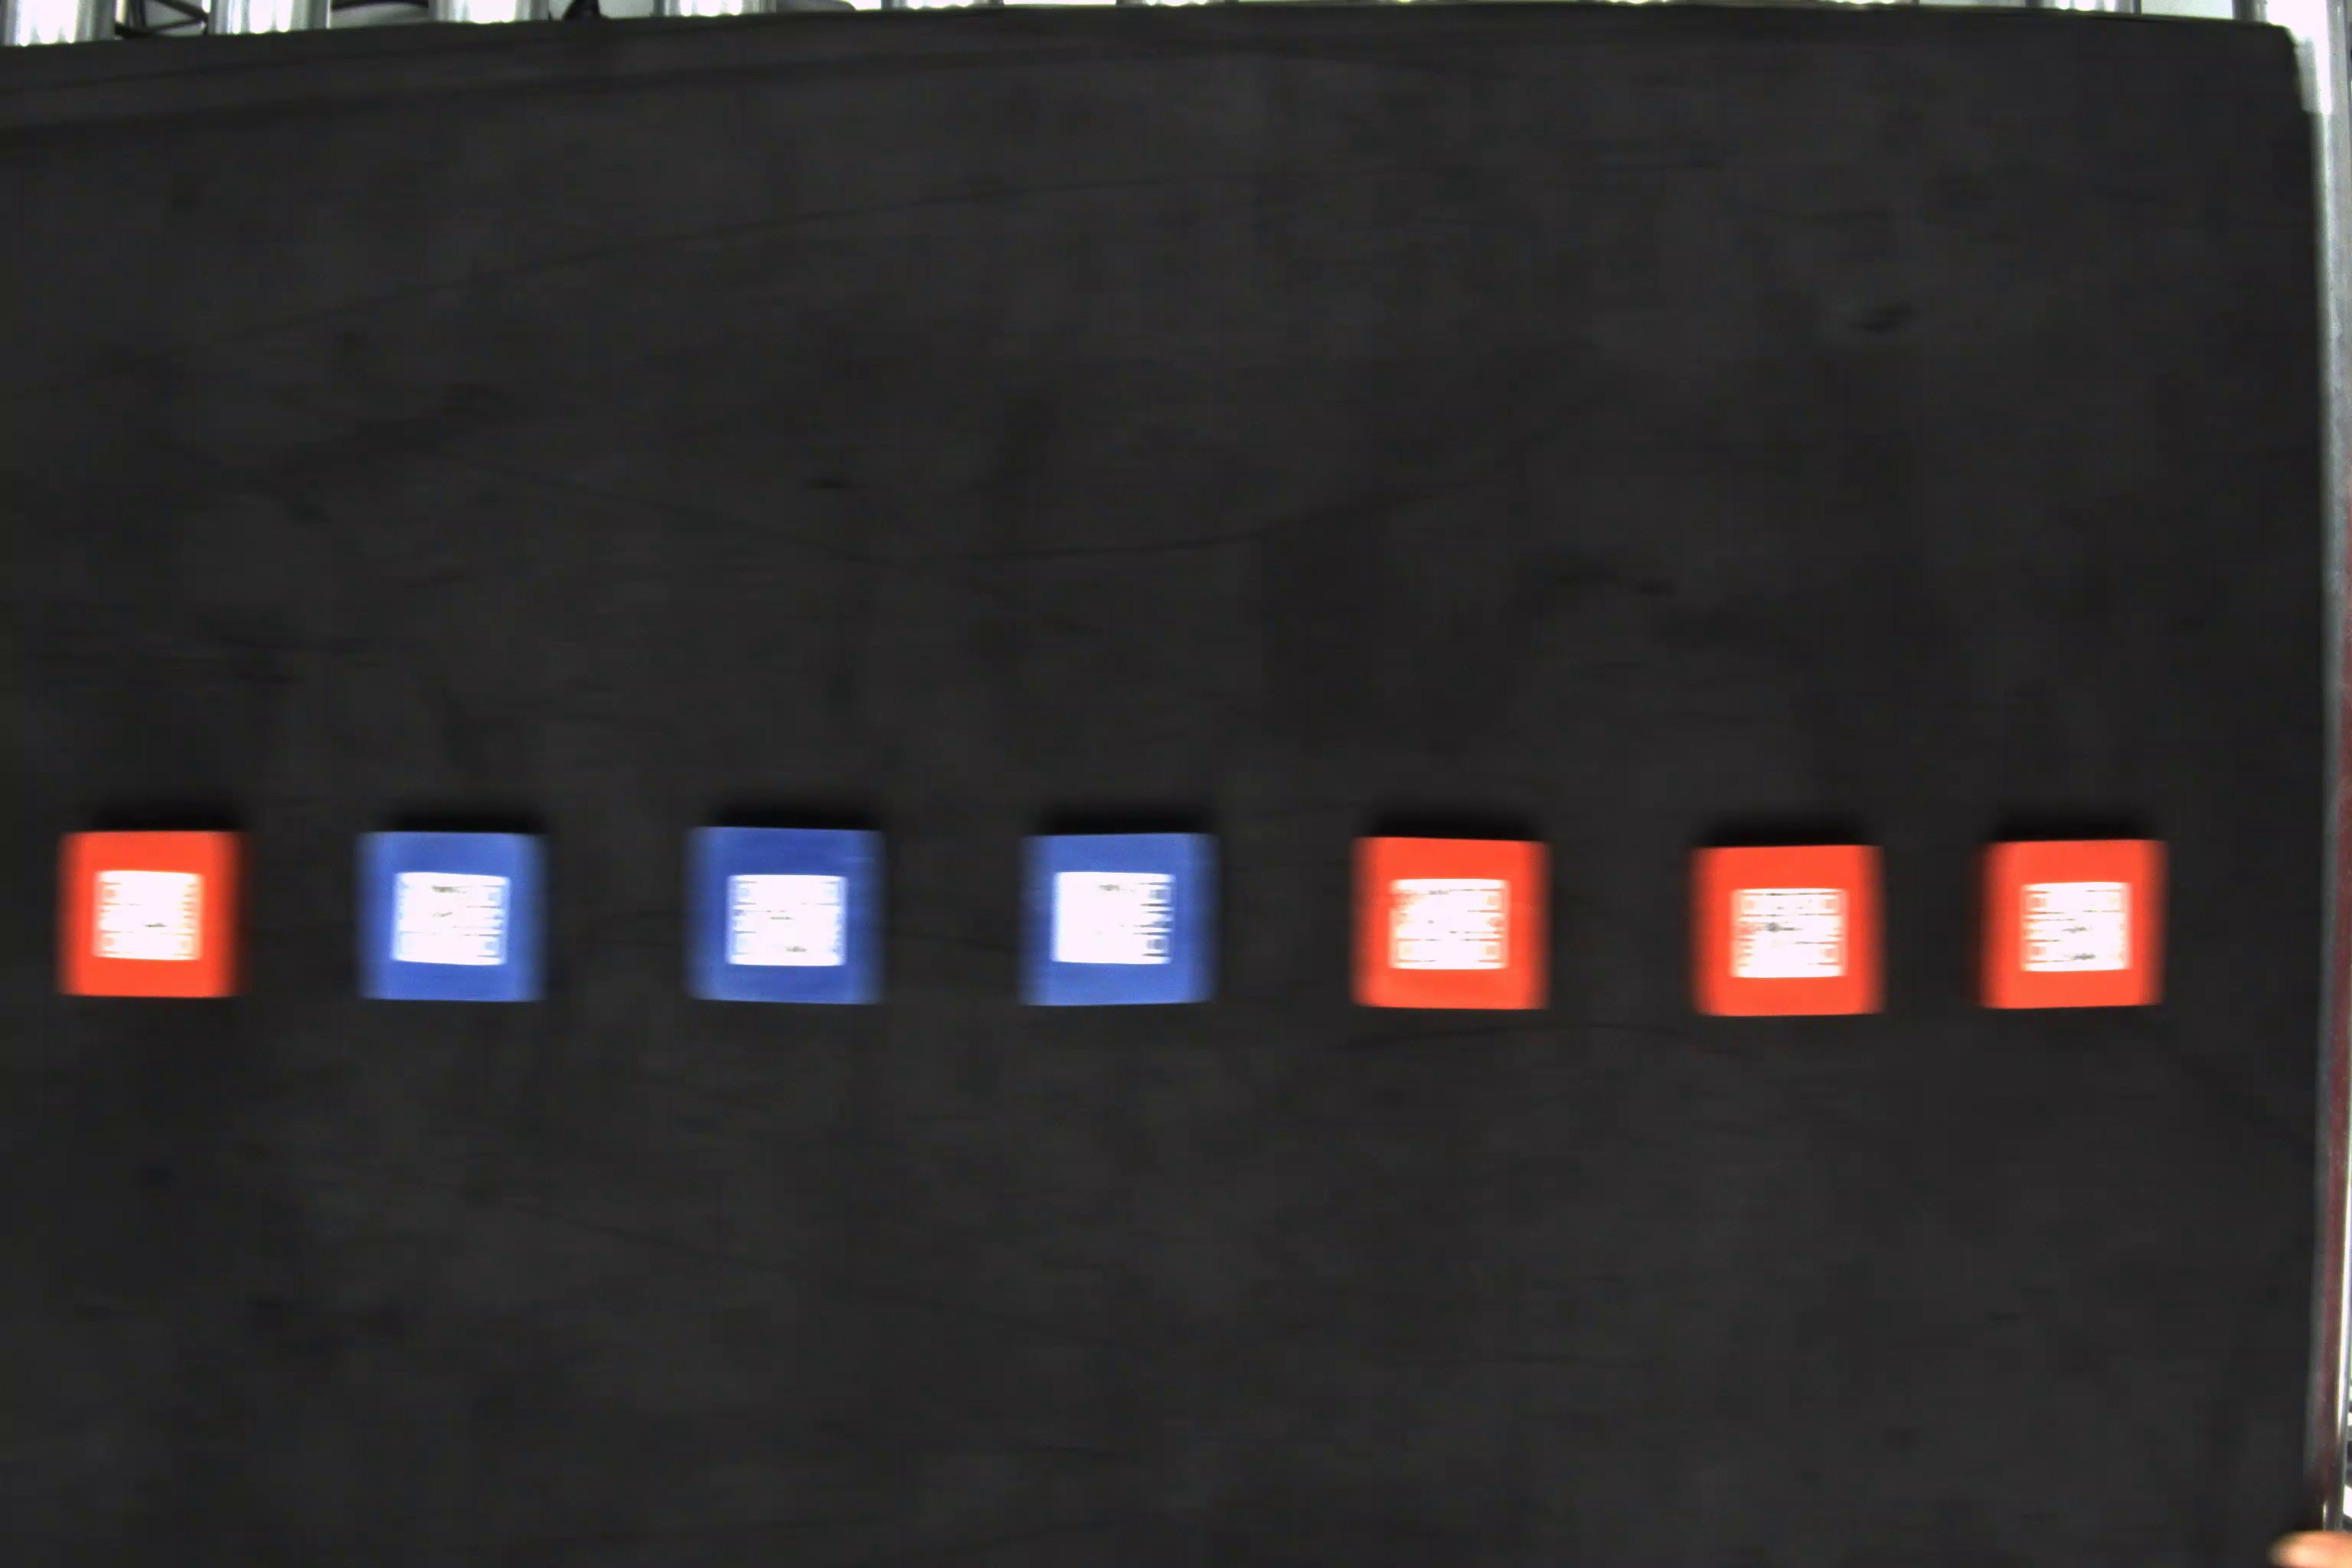wood: (686, 822, 885, 1011), (1354, 835, 1557, 1020), (1017, 833, 1223, 1015), (1690, 843, 1893, 1022), (355, 831, 548, 1006), (54, 835, 252, 1001), (1979, 847, 2172, 1017)
